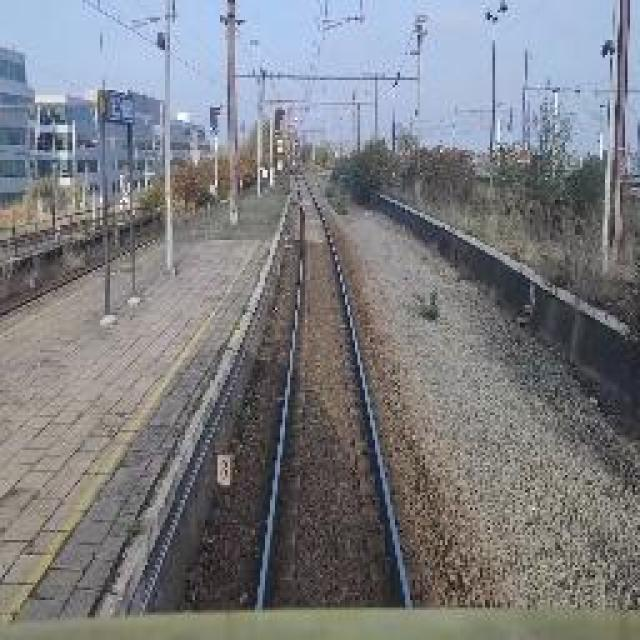rail: (200, 164, 443, 608)
